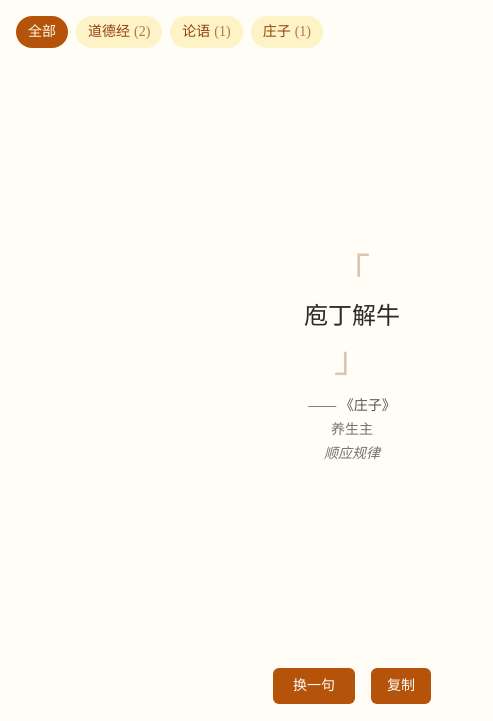
it: App Integration Tests › filters quotes when a source is selected
Expected: the button "全部" is shown, [16,16,68,48]
Click the button "论语(1)" at (206, 32), box [170,16,243,48]
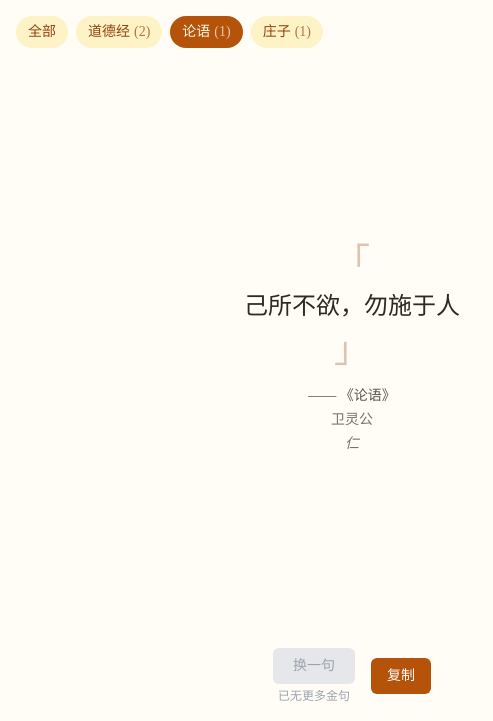
Expected: the text "己所不欲，勿施于人" is shown, [228,290,476,322]
